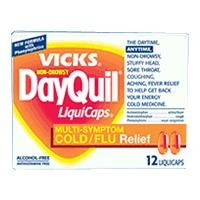grozi_8: (10, 31, 186, 168)
